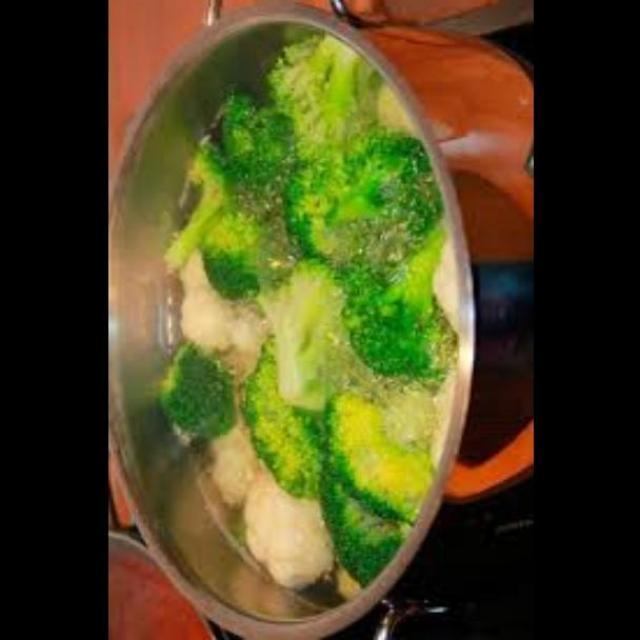Broccoli: (152, 122, 429, 538), (261, 25, 368, 178)
cayliflower: (230, 475, 328, 599), (170, 254, 260, 366), (204, 424, 254, 528)
